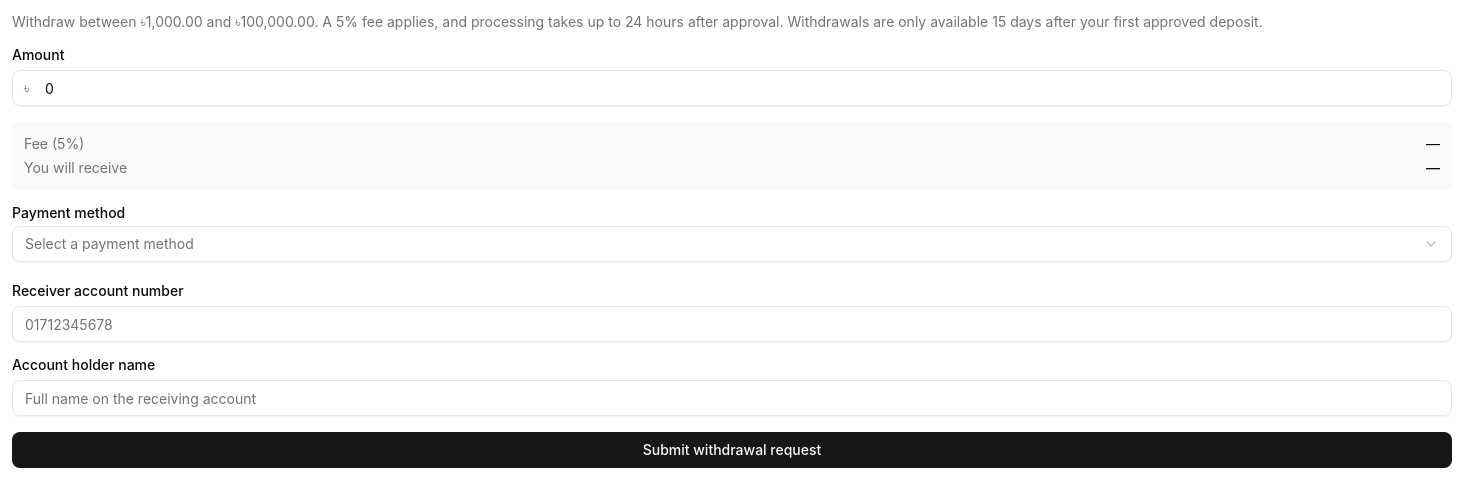
WithdrawalForm › live-updates the fee/net amount preview as the amount changes
Replace the text in the number field labelled "Amount" with "2000" at x=732, y=88, box [12,70,1452,106]
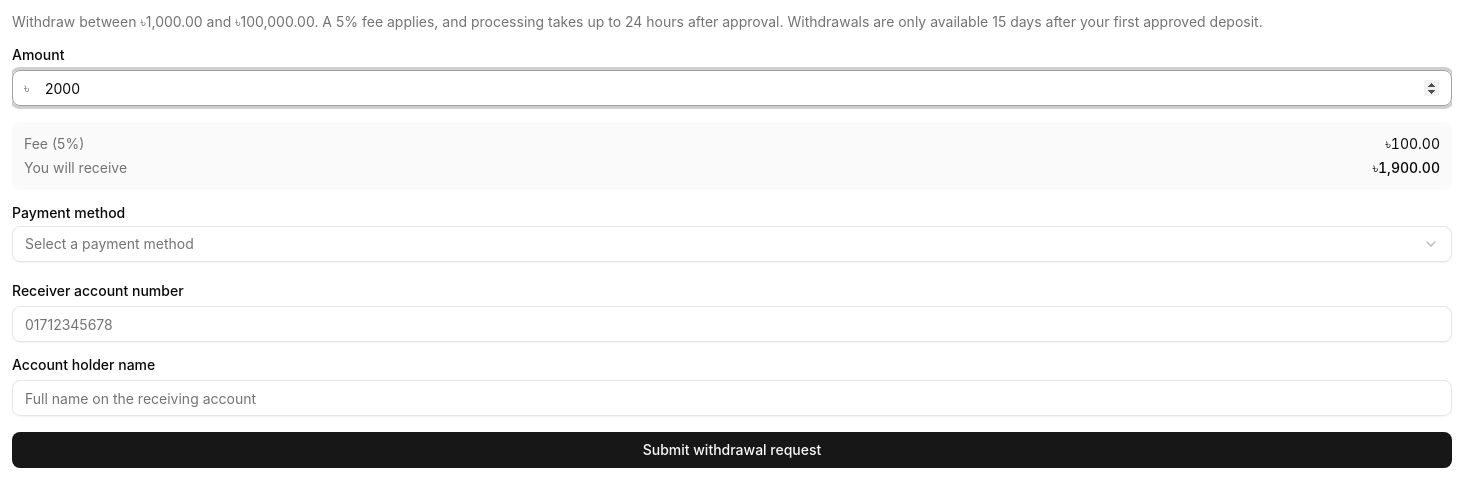
Result: the text "৳100.00" is shown at [1386,135,1440,152]
Result: the text "৳1,900.00" is shown at [1373,159,1440,176]
